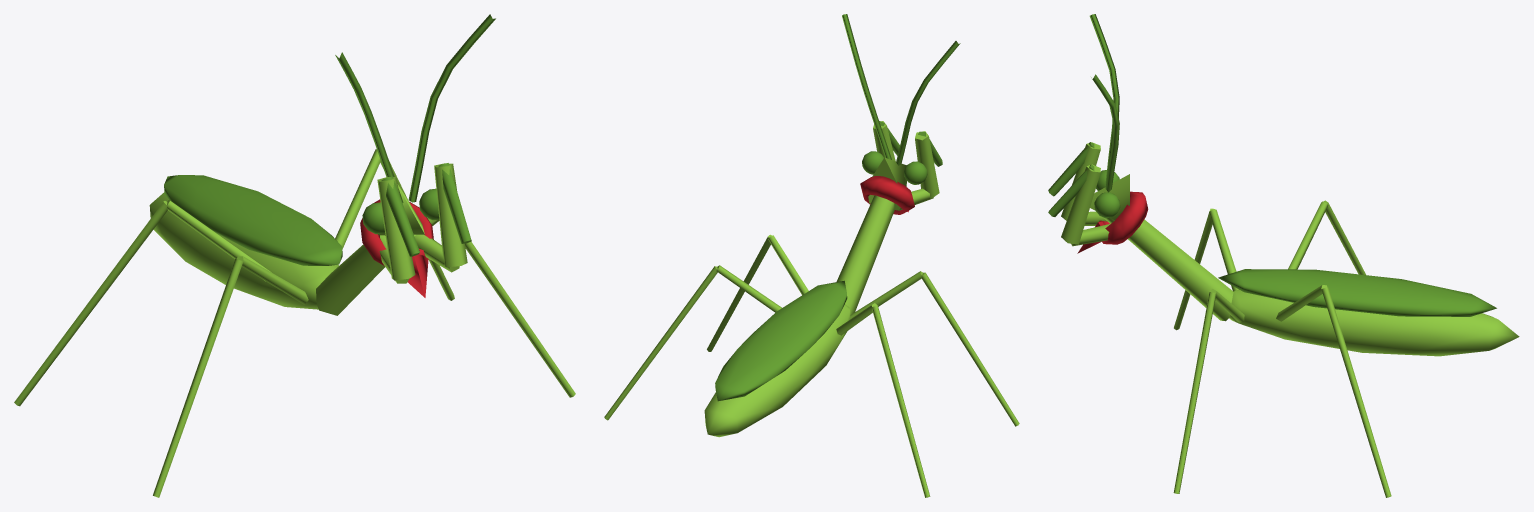
Rendered from mantis_prieurs.glb.
3 views of the same model, side by side, from view 1: azimuth 30°, elevation 25°; view 2: azimuth 150°, elevation 25°; view 3: azimuth 270°, elevation 25° (orthographic). The views are drawn at different scales.
Visible parts, largest first — view 1: mantis, mantis_pronotum, gang_bandana; view 2: mantis, mantis_pronotum, gang_bandana; view 3: mantis, mantis_pronotum, gang_bandana.
Part boxes in pixels (left/top/right/bottom): mantis: left=14, top=149, right=575, bottom=497; mantis_pronotum: left=316, top=14, right=495, bottom=315; gang_bandana: left=360, top=199, right=433, bottom=297; mantis: left=604, top=234, right=1019, bottom=497; mantis_pronotum: left=836, top=14, right=960, bottom=314; gang_bandana: left=860, top=176, right=914, bottom=214; mantis: left=1173, top=200, right=1519, bottom=497; mantis_pronotum: left=1048, top=14, right=1233, bottom=321; gang_bandana: left=1077, top=191, right=1148, bottom=253.
Size of the model in its own units: 5.59 by 5.48 by 6.36.
